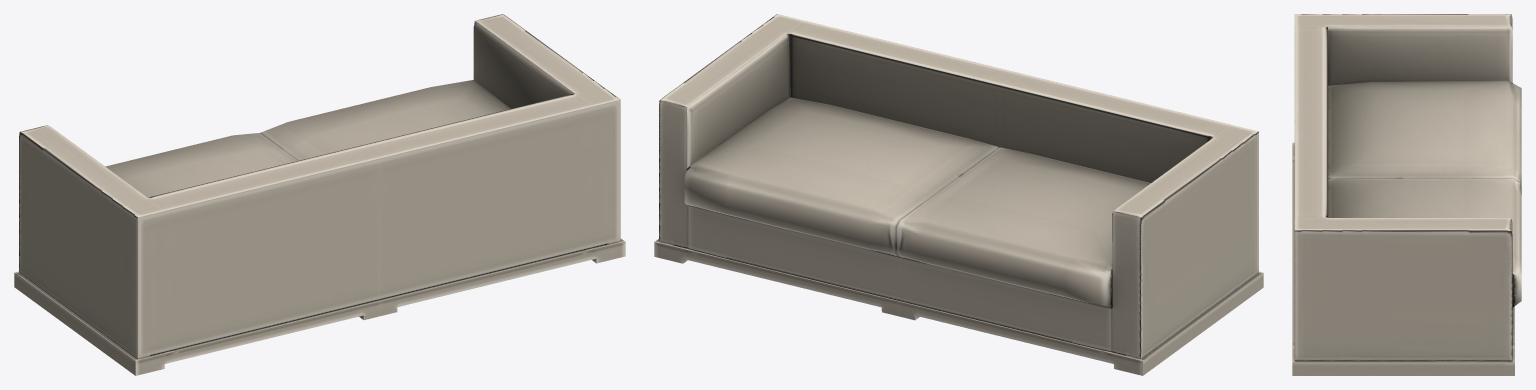
Rendered from Sofa01.FBX.
3 renders of one model, left to right at view 1: azimuth 30°, elevation 25°; view 2: azimuth 150°, elevation 25°; view 3: azimuth 270°, elevation 25°, orthographic. The views are drawn at different scales.
Parts seen in each view (by area): view 1: Sofa01; view 2: Sofa01; view 3: Sofa01.
Part boxes in pixels (left/top/right/bottom): Sofa01: left=14, top=14, right=625, bottom=375; Sofa01: left=654, top=14, right=1263, bottom=375; Sofa01: left=1292, top=14, right=1521, bottom=375.
Size of the model in its own units: 203 by 89.5 by 61.93.
